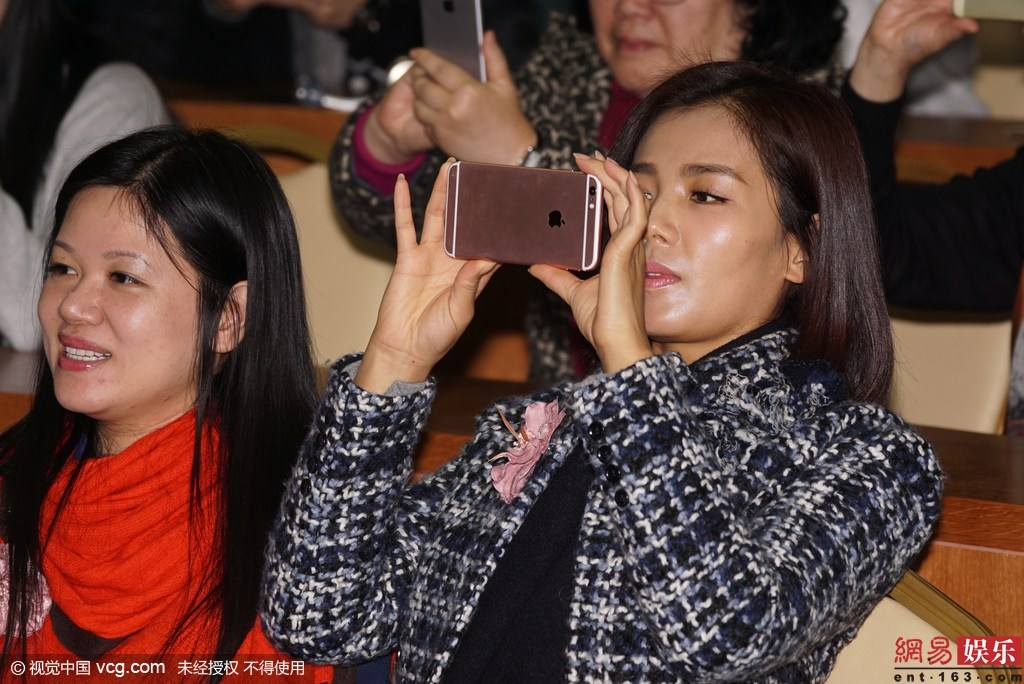taking photos: (372, 143, 650, 355)
